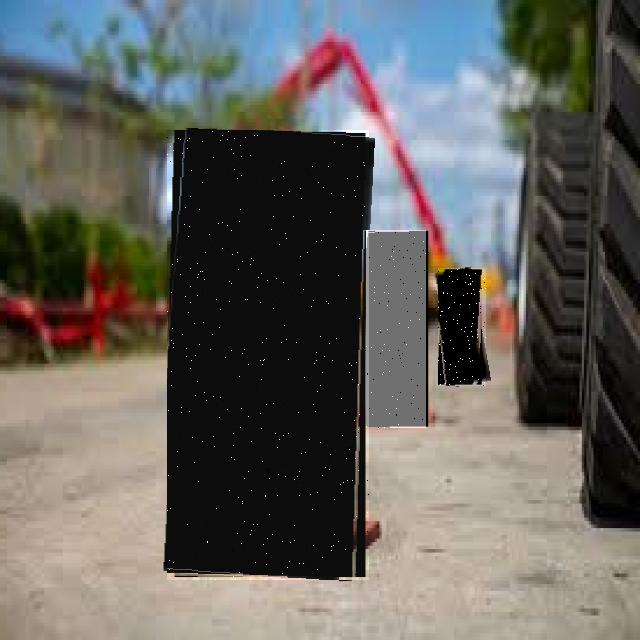Traffic-cone: (167, 130, 369, 580), (366, 230, 426, 428), (438, 268, 486, 386)
